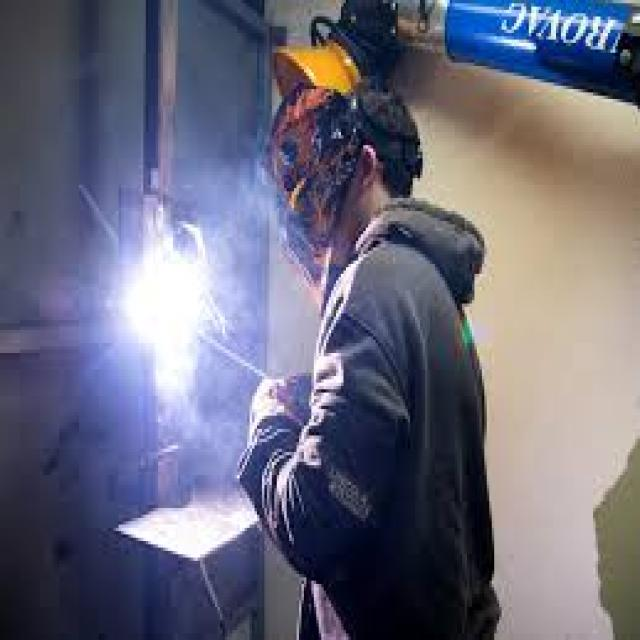with_helmet: (265, 39, 474, 318)
